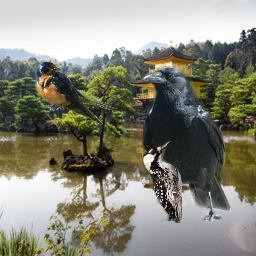Crow: (143, 66, 231, 221)
Swallow: (35, 60, 119, 124)
Woodpecker: (141, 140, 182, 223)
